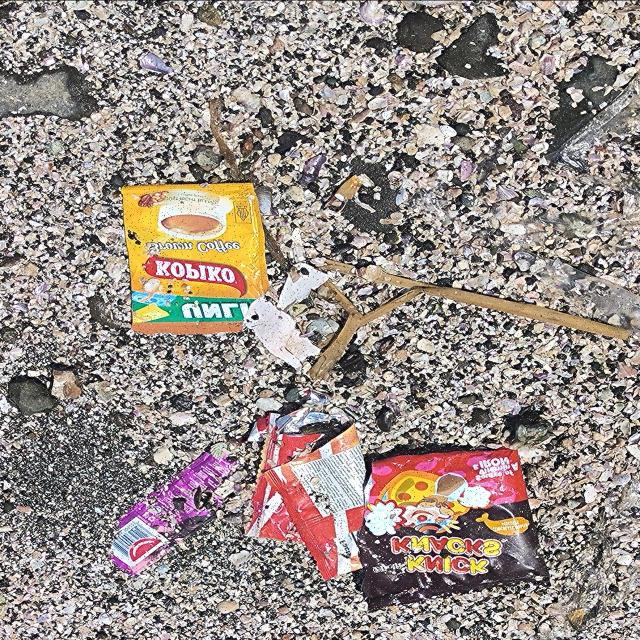plastic_waste: (358, 446, 554, 614), (123, 182, 271, 336), (244, 406, 369, 584), (108, 451, 240, 578)
